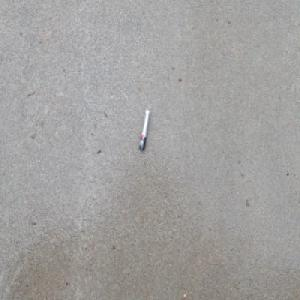Battery: (138, 108, 151, 152)
